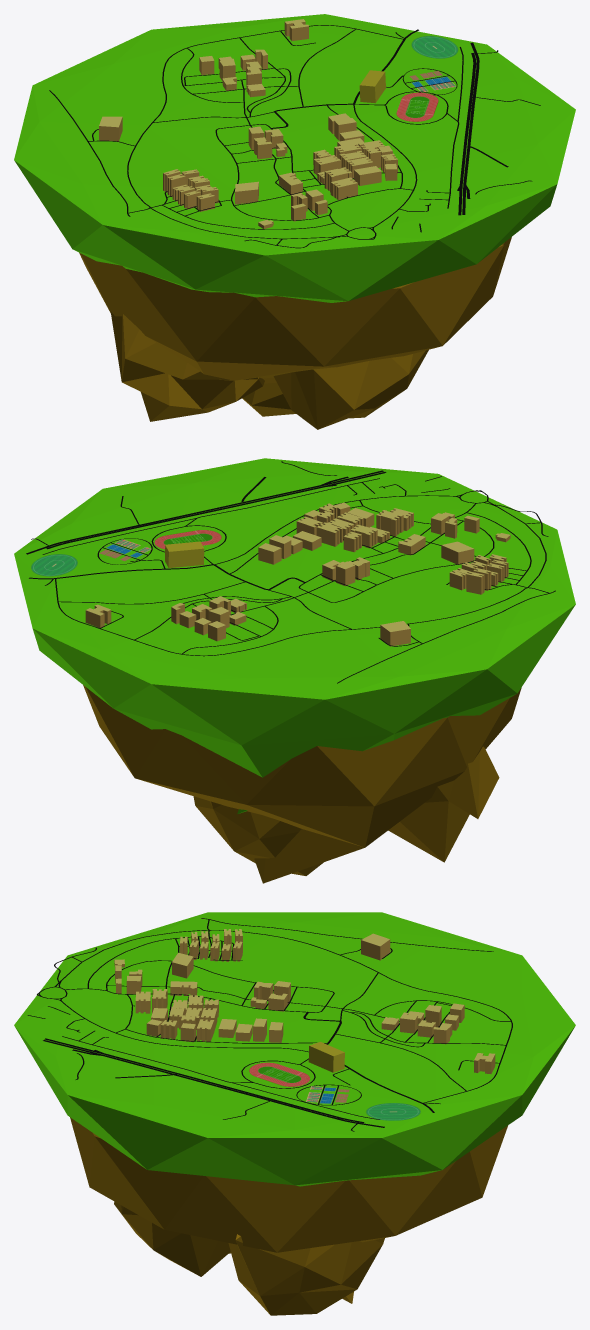
Rendered from clg model11.glb.
3 views of the same model, one above another, from view 1: azimuth 30°, elevation 25°; view 2: azimuth 150°, elevation 25°; view 3: azimuth 270°, elevation 25° (orthographic). The views are drawn at different scales.
Parts seen in each view (by area): view 1: Icosphere.003, Icosphere.004, map.osm_buildings, Icosphere.006, Icosphere.005, map.osm_roads_service, map.osm_roads_trunk, Icosphere.008, 4-removebg-preview, cricket-removebg-preview, Cube.003; view 2: Icosphere.003, Icosphere.004, map.osm_buildings, map.osm_roads_service, Icosphere.006, Icosphere.008, map.osm_roads_trunk, Cube.003, cricket-removebg-preview, 4-removebg-preview; view 3: Icosphere.003, Icosphere.004, map.osm_buildings, Icosphere.008, map.osm_roads_service, Icosphere.005, map.osm_roads_trunk, 4-removebg-preview, Cube.003, cricket-removebg-preview.
Boxes of the visible parts, left/top/right/bottom form: Icosphere.003: left=14, top=14, right=575, bottom=302; Icosphere.004: left=79, top=237, right=511, bottom=383; map.osm_buildings: left=99, top=19, right=397, bottom=228; Icosphere.006: left=110, top=311, right=264, bottom=421; Icosphere.005: left=273, top=349, right=428, bottom=429; map.osm_roads_service: left=49, top=25, right=540, bottom=248; map.osm_roads_trunk: left=457, top=42, right=479, bottom=215; Icosphere.008: left=242, top=382, right=295, bottom=416; 4-removebg-preview: left=396, top=92, right=438, bottom=121; cricket-removebg-preview: left=411, top=36, right=457, bottom=58; Cube.003: left=359, top=70, right=385, bottom=103; Icosphere.003: left=14, top=458, right=575, bottom=813; Icosphere.004: left=83, top=685, right=521, bottom=883; map.osm_buildings: left=85, top=502, right=510, bottom=646; map.osm_roads_service: left=31, top=461, right=555, bottom=683; Icosphere.006: left=388, top=746, right=499, bottom=862; Icosphere.008: left=193, top=796, right=323, bottom=875; map.osm_roads_trunk: left=26, top=470, right=386, bottom=554; Cube.003: left=165, top=541, right=204, bottom=567; cricket-removebg-preview: left=31, top=554, right=77, bottom=576; 4-removebg-preview: left=154, top=530, right=221, bottom=549; Icosphere.003: left=14, top=912, right=575, bottom=1186; Icosphere.004: left=70, top=1117, right=507, bottom=1303; map.osm_buildings: left=114, top=929, right=495, bottom=1073; Icosphere.008: left=228, top=1234, right=384, bottom=1315; map.osm_roads_service: left=27, top=918, right=512, bottom=1131; Icosphere.005: left=114, top=1201, right=230, bottom=1276; map.osm_roads_trunk: left=43, top=1038, right=384, bottom=1127; 4-removebg-preview: left=249, top=1062, right=309, bottom=1086; Cube.003: left=308, top=1042, right=344, bottom=1072; cricket-removebg-preview: left=366, top=1103, right=420, bottom=1120.
Bounding box in the file's own units: 3116 × 1940 × 3276.
17 materials, 5 textured.
